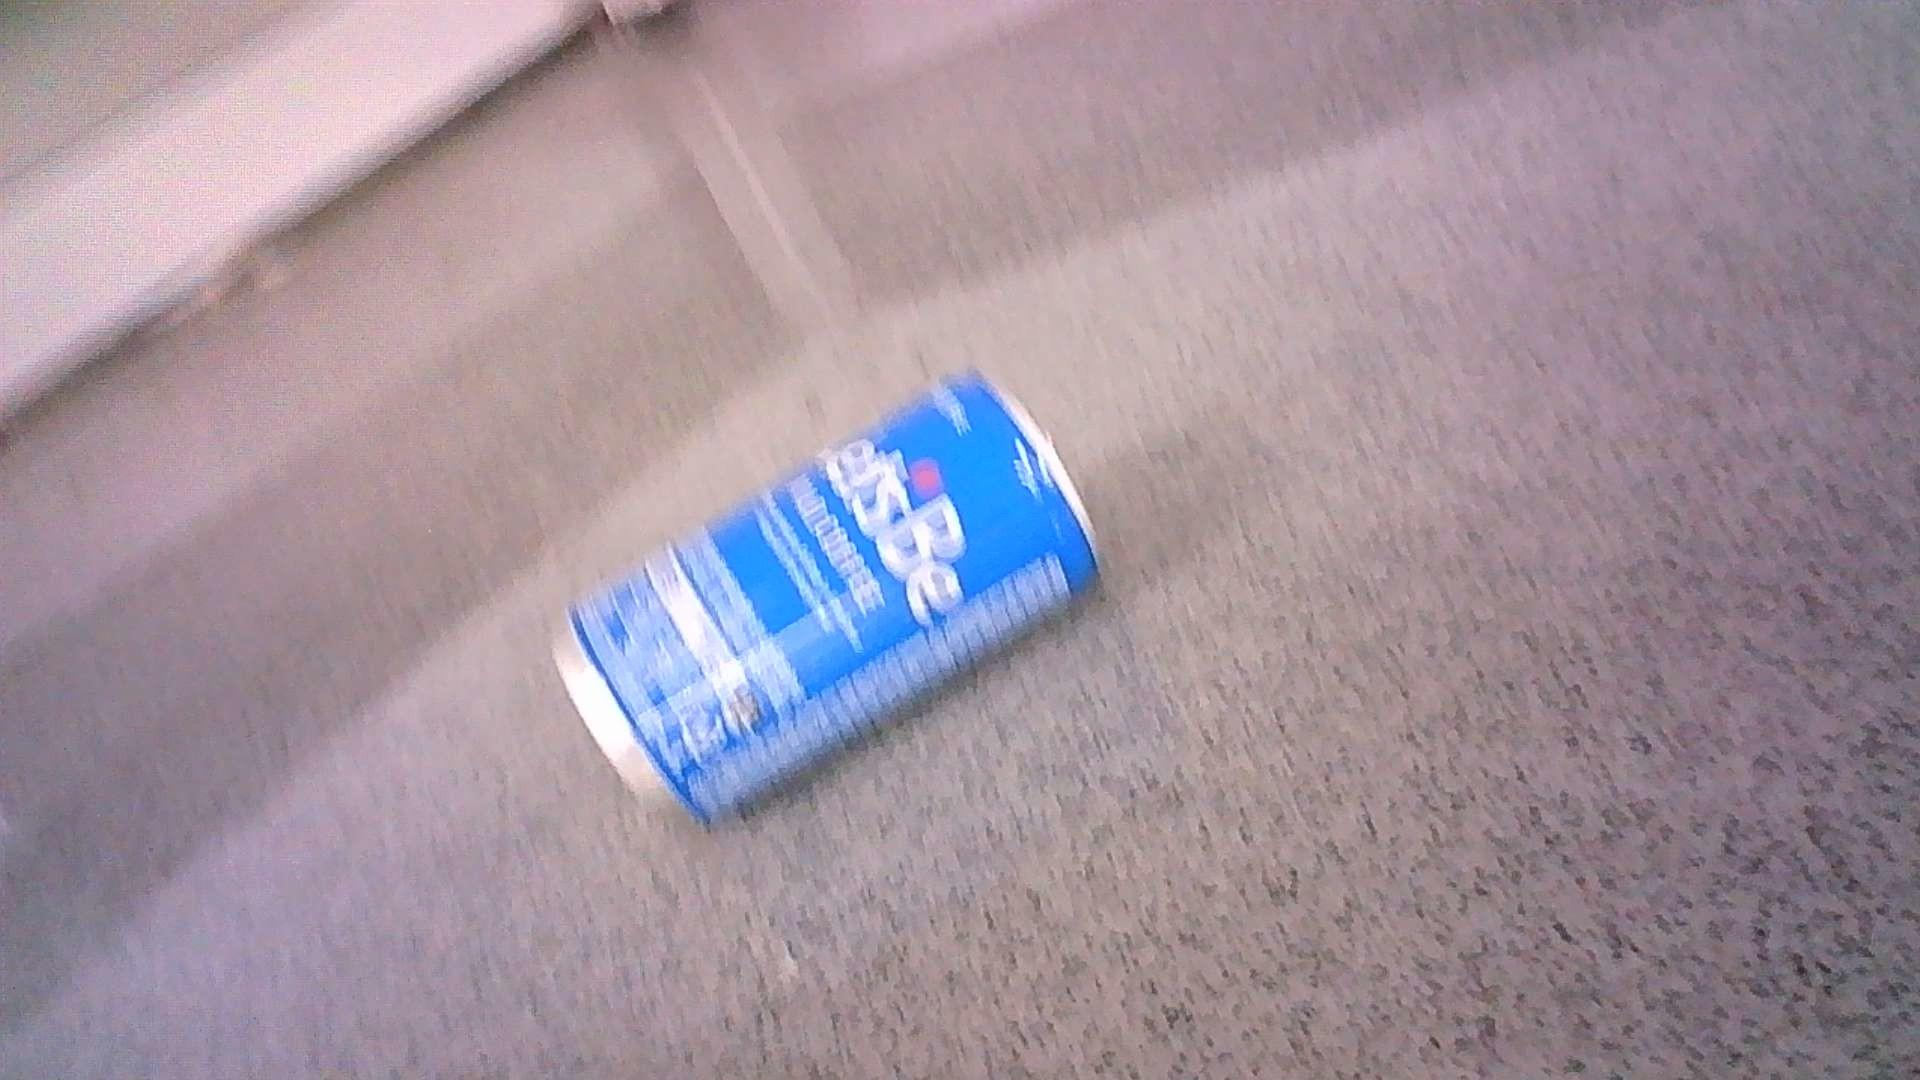letsbe: (551, 367, 1104, 833)
